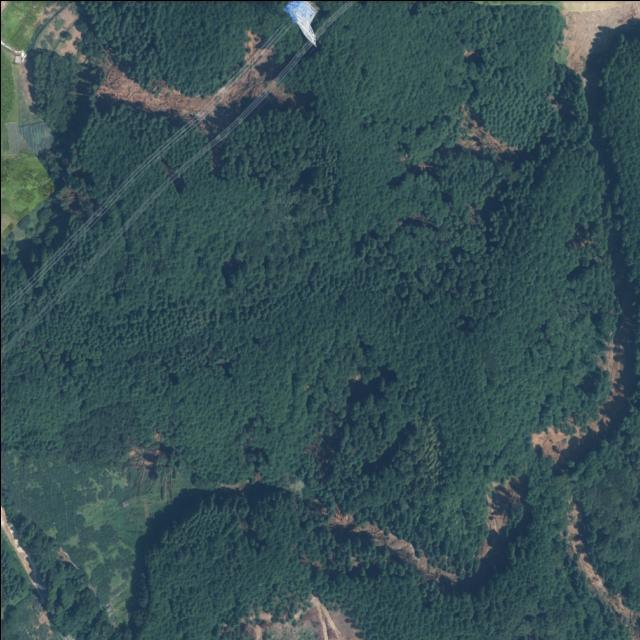landslide: (95, 59, 211, 119), (562, 1, 640, 72), (209, 46, 270, 115), (243, 29, 259, 61), (270, 84, 293, 100)
